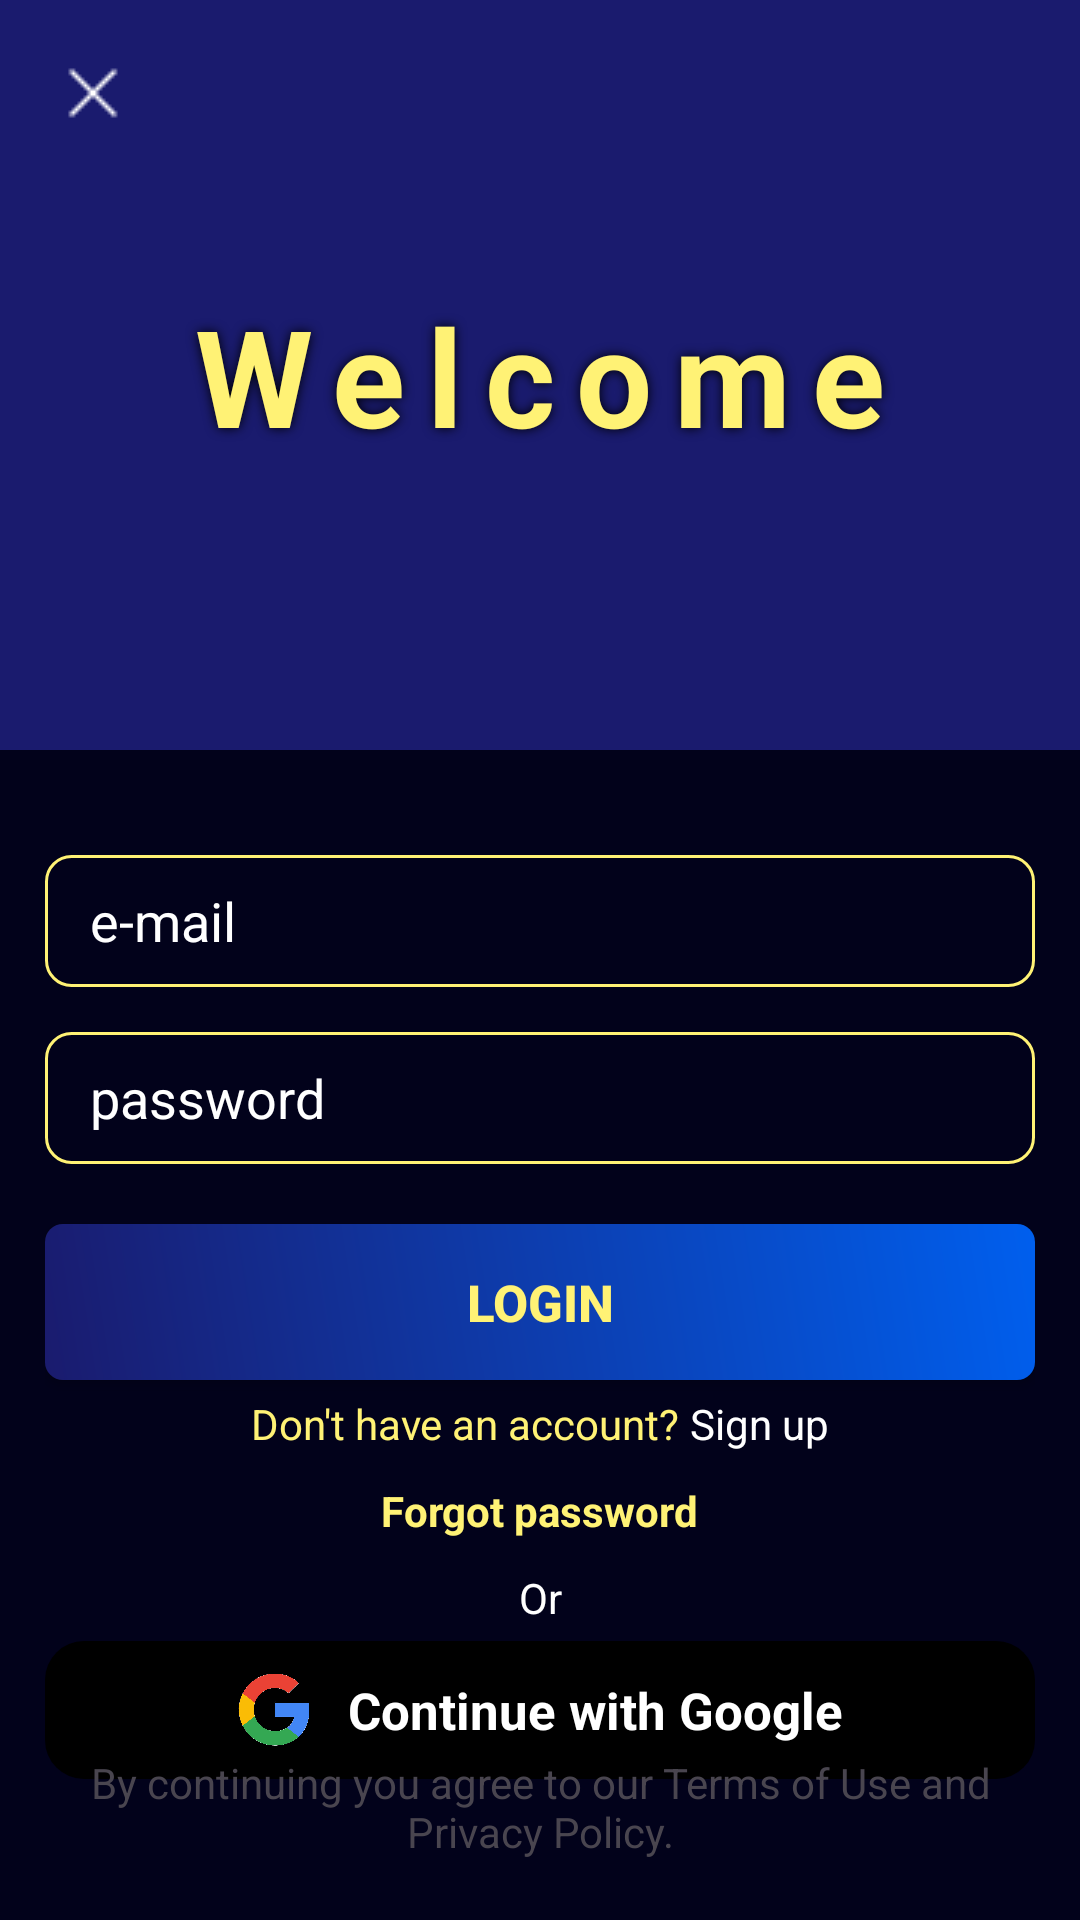

Where to tap for icons on this 1080px x 1920px app screen, as point (x, y):
close: point (93, 93)
